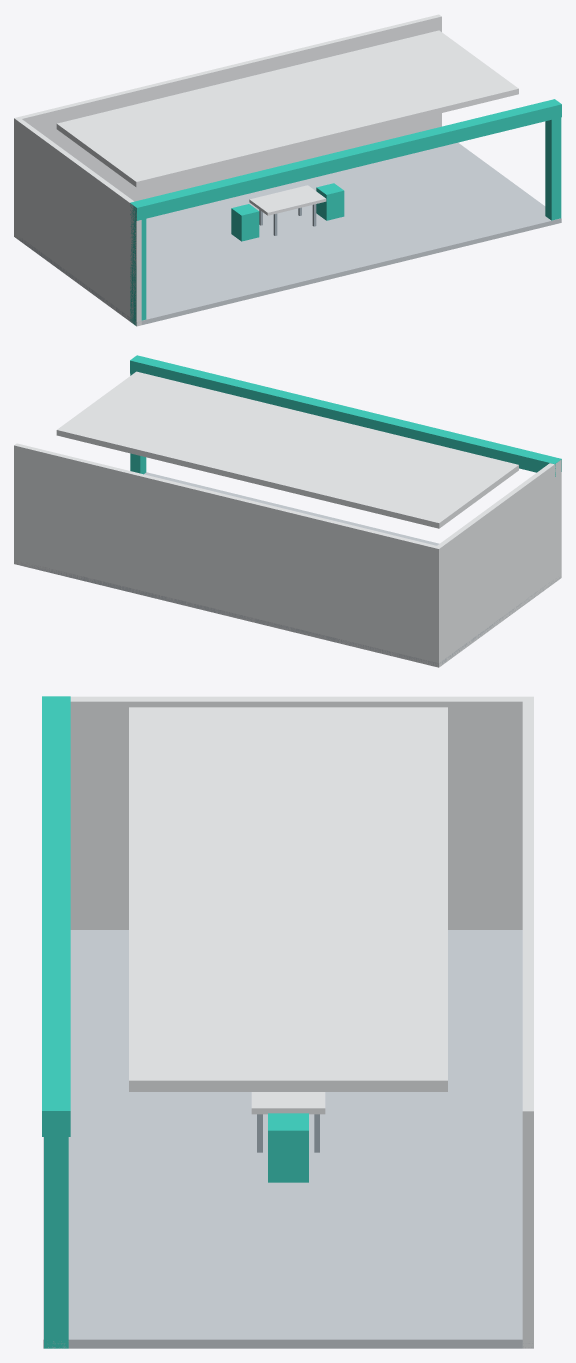
3 renders of one model, top to bottom at view 1: azimuth 30°, elevation 25°; view 2: azimuth 150°, elevation 25°; view 3: azimuth 270°, elevation 25°, orthographic. The views are drawn at different scales.
Visible parts, largest first — view 1: Exhibition Booth Concept; view 2: Exhibition Booth Concept; view 3: Exhibition Booth Concept.
Boxes of the visible parts, <box> form: Exhibition Booth Concept: <box>14,14,561,326</box>; Exhibition Booth Concept: <box>14,355,561,667</box>; Exhibition Booth Concept: <box>42,696,533,1348</box>.
Bounding box in the file's own units: 12 × 3.34 × 6.02.
